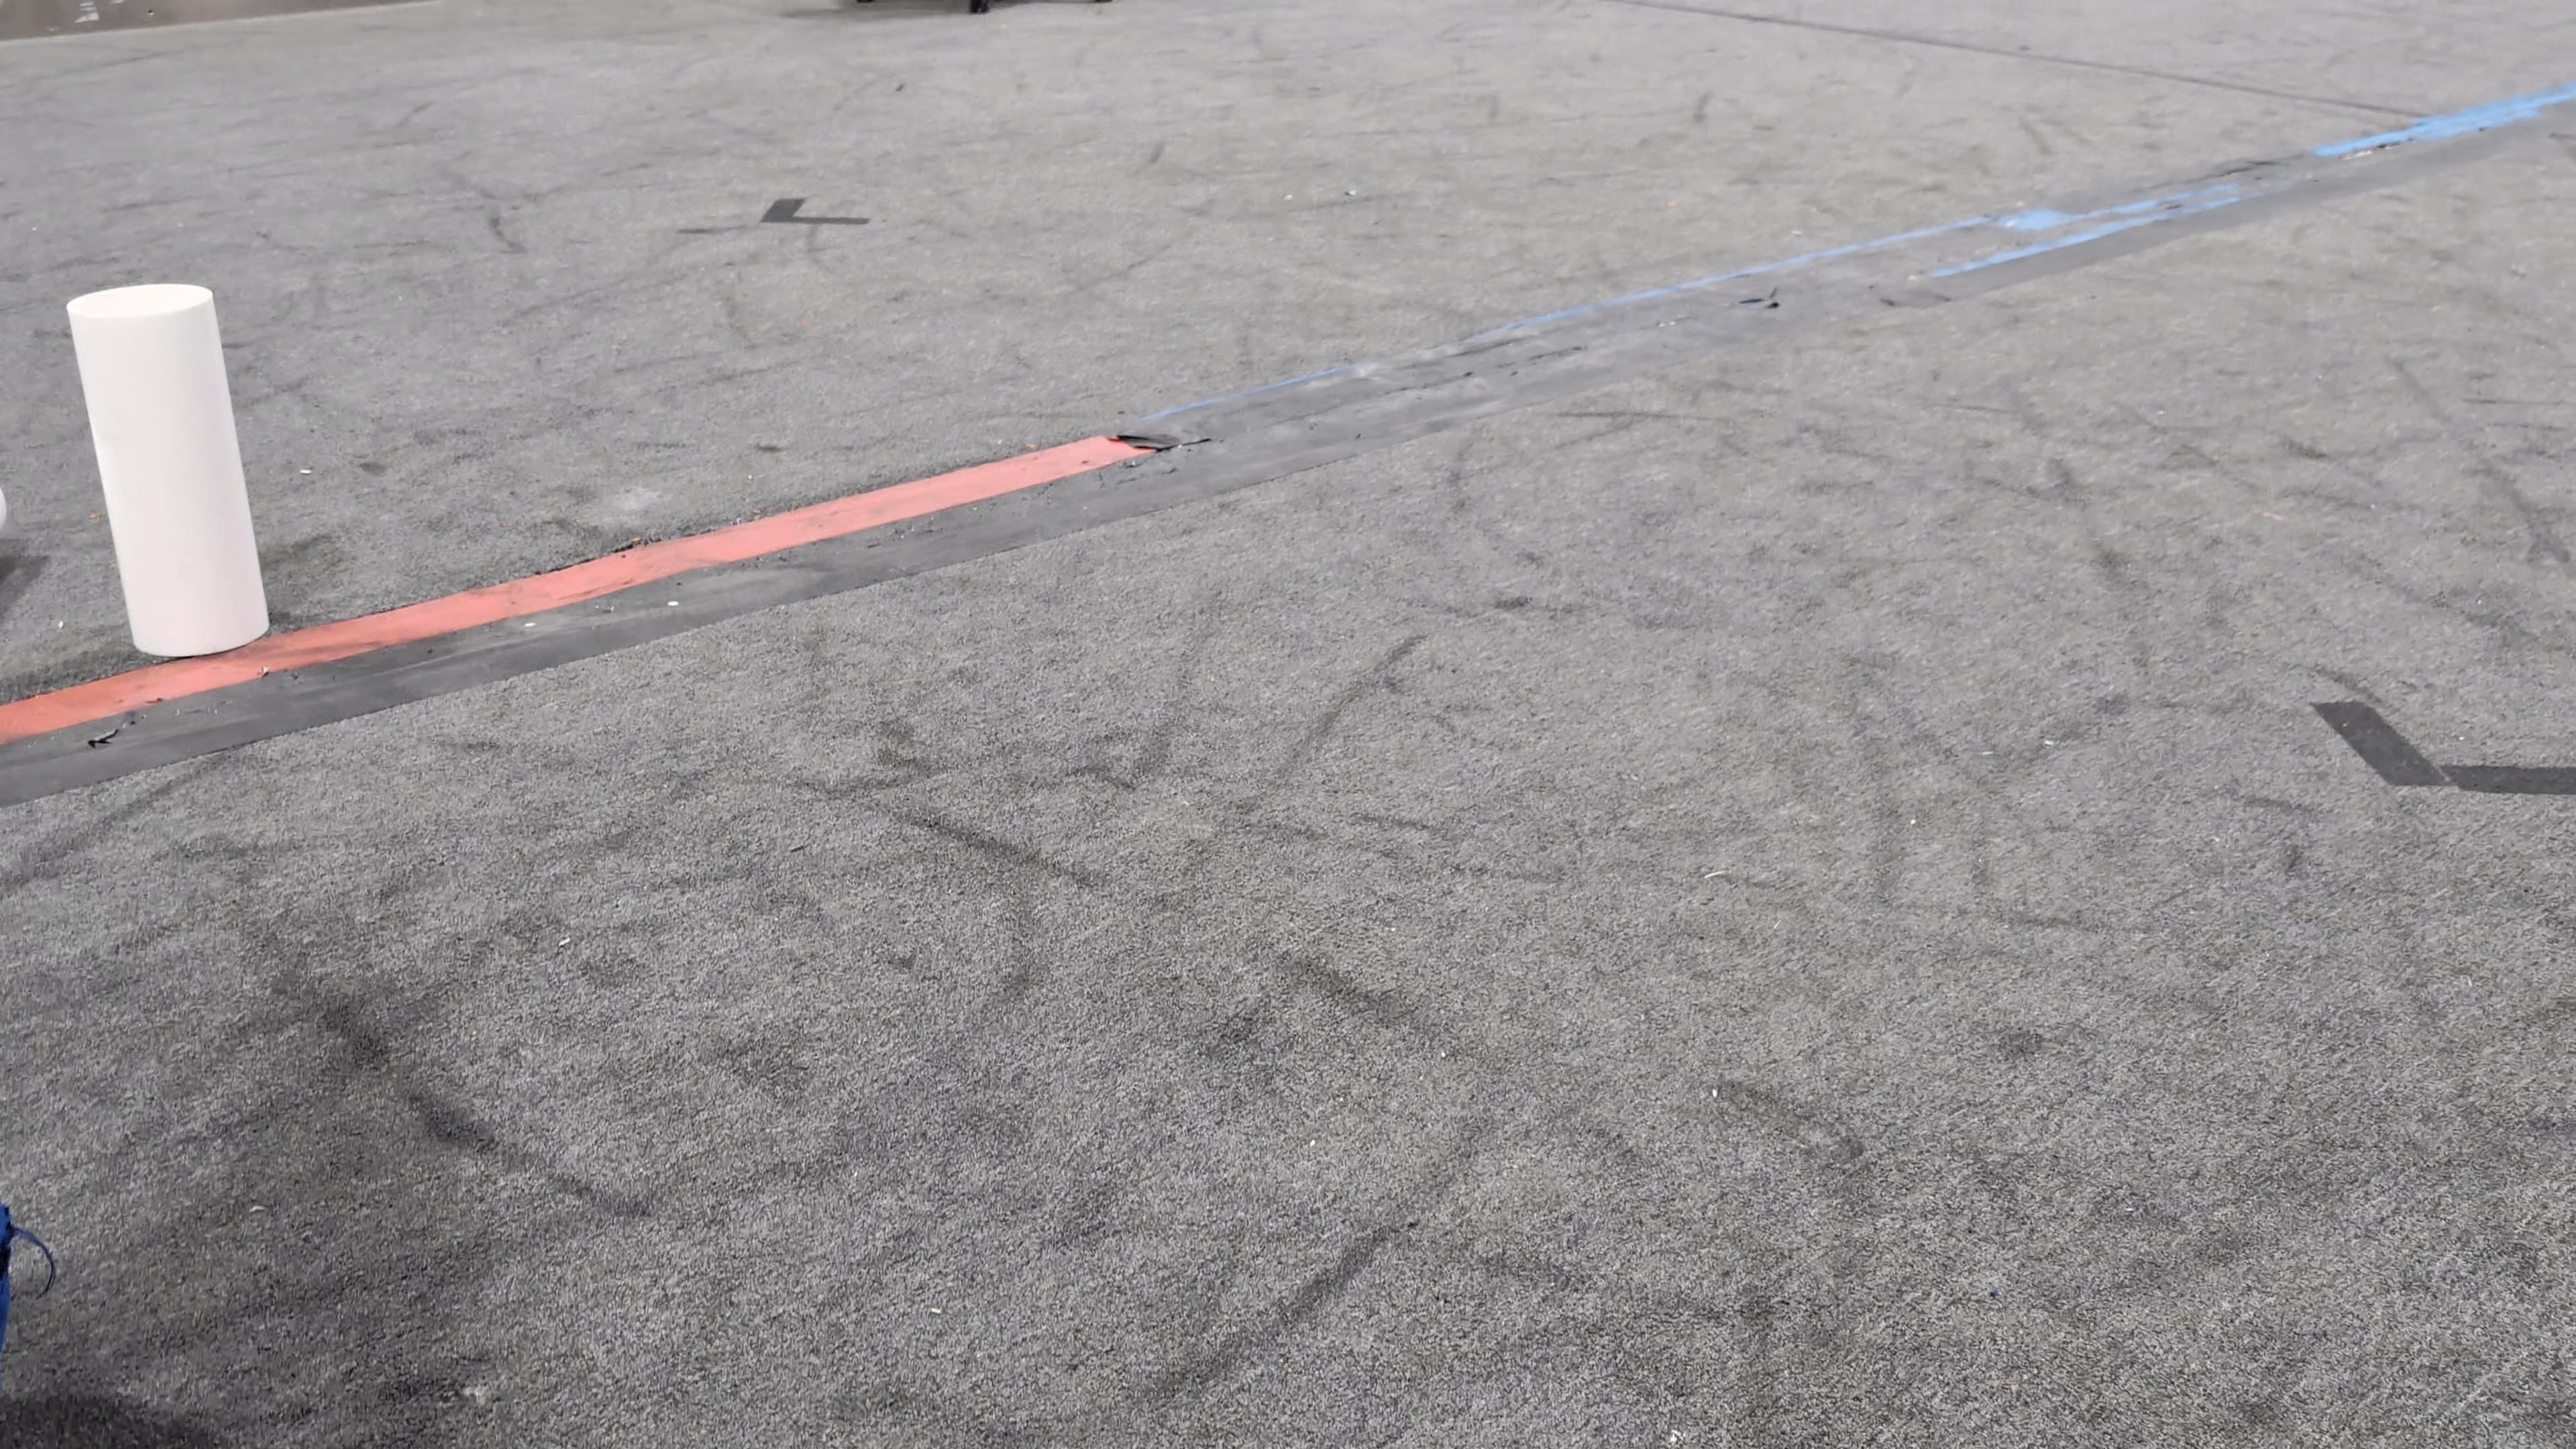coral: (58, 280, 274, 663)
